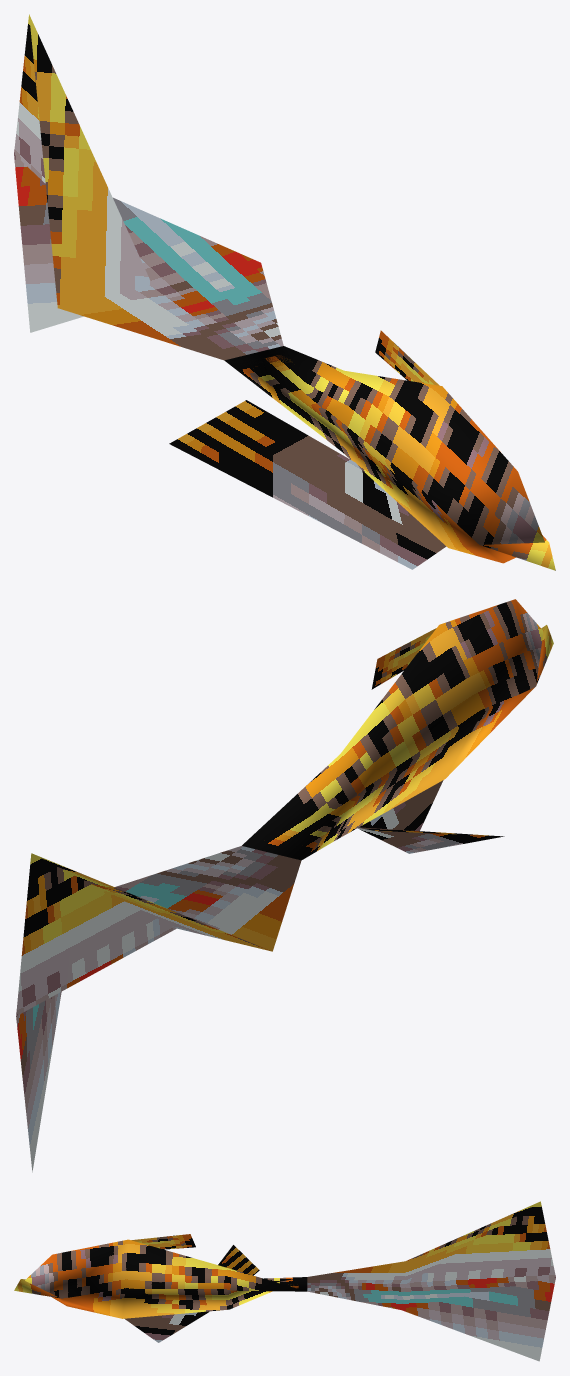
The picture shows the model from 3 angles, top to bottom: view 1: azimuth 30°, elevation 25°; view 2: azimuth 150°, elevation 25°; view 3: azimuth 270°, elevation 25°; orthographic projection. The views are drawn at different scales.
Visible parts, largest first — view 1: 4801fish11_r; view 2: 4801fish11_r; view 3: 4801fish11_r.
Boxes of the visible parts, x1,y1,x2,y2 form: 4801fish11_r: [14, 14, 555, 570]; 4801fish11_r: [16, 599, 553, 1172]; 4801fish11_r: [14, 1201, 555, 1361].
Size of the model in its own units: 0.2776 by 0.3264 by 1.
1 material, 1 textured.
